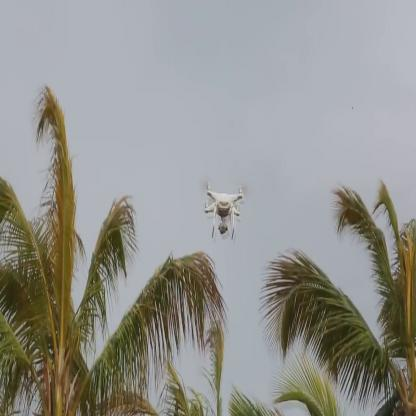drone: (199, 180, 251, 242)
